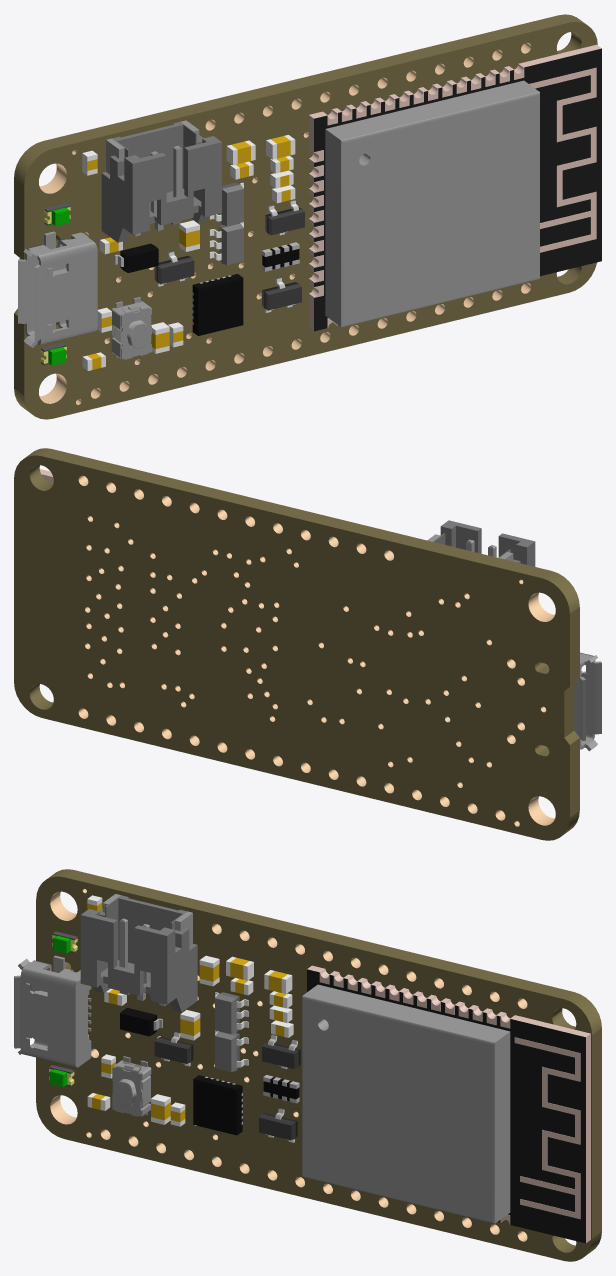
Rendered from adafruit-3405-huzzah32.glb.
3 renders of one model, top to bottom at view 1: azimuth 30°, elevation 25°; view 2: azimuth 150°, elevation 25°; view 3: azimuth 330°, elevation 25°, orthographic. The views are drawn at different scales.
Parts seen in each view (by area): view 1: body_12, body, body_16, body_7, body_3, body_13, body_5, body_4, body_9, body_8, body_10, body_2; view 2: body_12, body_5, body, body_7; view 3: body_12, body, body_16, body_7, body_3, body_13, body_4, body_5, body_8, body_9, body_10, body_2.
Boxes of the visible parts, bbox=[...] form: body_12: bbox=[14, 14, 597, 419]; body: bbox=[18, 80, 539, 359]; body_16: bbox=[314, 48, 601, 331]; body_7: bbox=[101, 121, 243, 264]; body_3: bbox=[309, 44, 601, 330]; body_13: bbox=[120, 243, 299, 335]; body_5: bbox=[39, 42, 531, 404]; body_4: bbox=[82, 135, 295, 370]; body_9: bbox=[154, 207, 304, 310]; body_8: bbox=[87, 136, 290, 369]; body_10: bbox=[48, 207, 69, 365]; body_2: bbox=[114, 242, 299, 324]; body_12: bbox=[14, 448, 579, 840]; body_5: bbox=[78, 475, 554, 826]; body: bbox=[427, 534, 601, 751]; body_7: bbox=[433, 520, 535, 566]; body_12: bbox=[36, 869, 601, 1261]; body: bbox=[14, 894, 510, 1223]; body_16: bbox=[307, 969, 585, 1243]; body_7: bbox=[80, 895, 239, 1071]; body_3: bbox=[307, 965, 590, 1242]; body_13: bbox=[120, 1008, 299, 1135]; body_4: bbox=[87, 895, 293, 1126]; body_5: bbox=[50, 888, 527, 1241]; body_8: bbox=[87, 902, 287, 1121]; body_9: bbox=[154, 1036, 300, 1140]; body_10: bbox=[49, 935, 70, 1087]; body_2: bbox=[123, 1009, 299, 1124].
Bounding box in the file's own units: 51.35 × 22.86 × 6.37.
